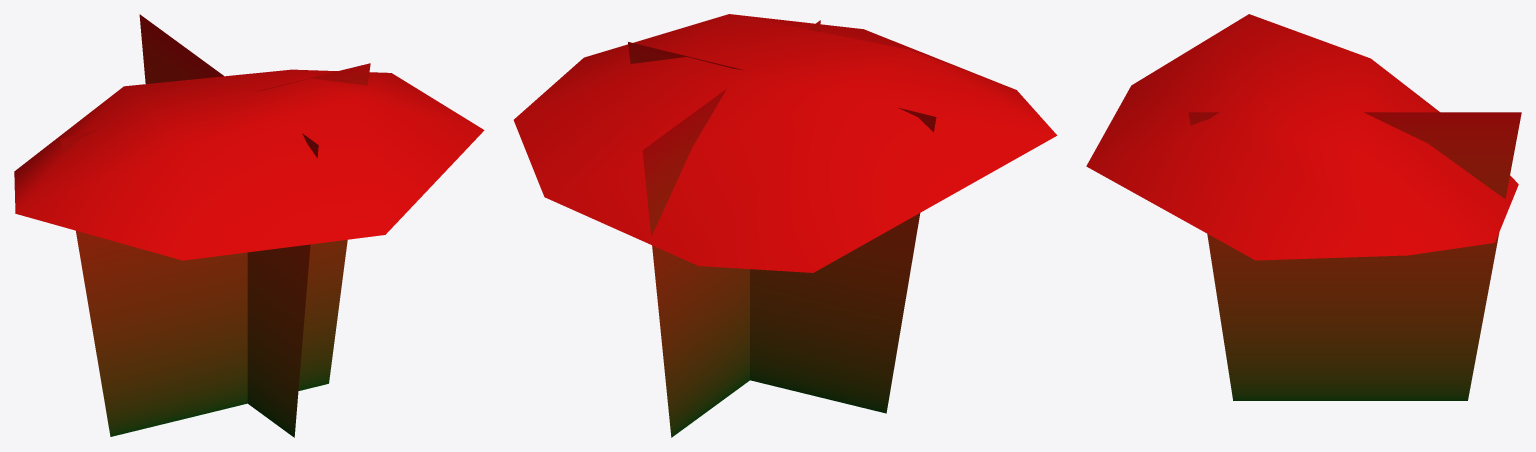
The model's file is Var2_LOD4.fbx.
3 views of the same model, side by side, from view 1: azimuth 30°, elevation 25°; view 2: azimuth 150°, elevation 25°; view 3: azimuth 270°, elevation 25° (orthographic). The views are drawn at different scales.
Parts seen in each view (by area): view 1: _b0e7_Var2_LOD4; view 2: _b0e7_Var2_LOD4; view 3: _b0e7_Var2_LOD4.
Boxes of the visible parts, box(x1,y1,x2,y2) form: _b0e7_Var2_LOD4: box(14, 14, 484, 437); _b0e7_Var2_LOD4: box(513, 14, 1056, 437); _b0e7_Var2_LOD4: box(1086, 14, 1521, 400).
Size of the model in its own units: 29.15 by 18.92 by 25.01.
